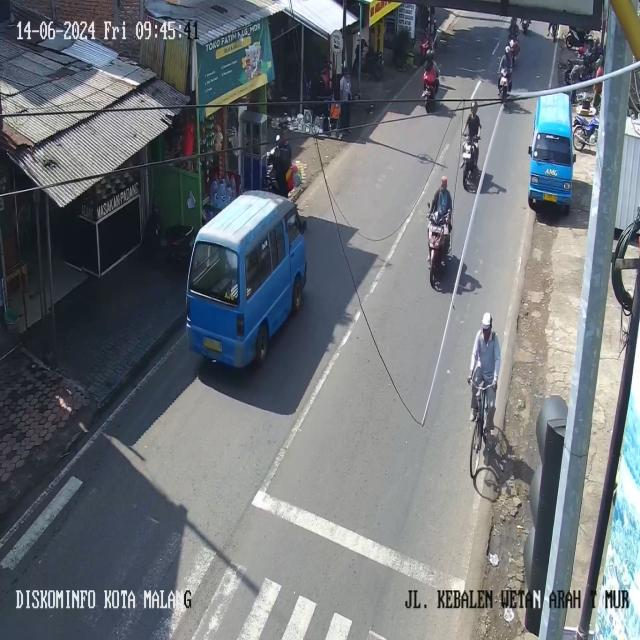Helmet: (482, 312, 491, 328), (471, 100, 477, 113), (509, 39, 516, 49), (441, 176, 447, 186), (505, 44, 510, 53)
Number Plate: (203, 338, 221, 352), (543, 193, 556, 202), (463, 152, 470, 158)
Rearview Mirror: (296, 215, 306, 233), (528, 146, 531, 154), (573, 153, 575, 162)
